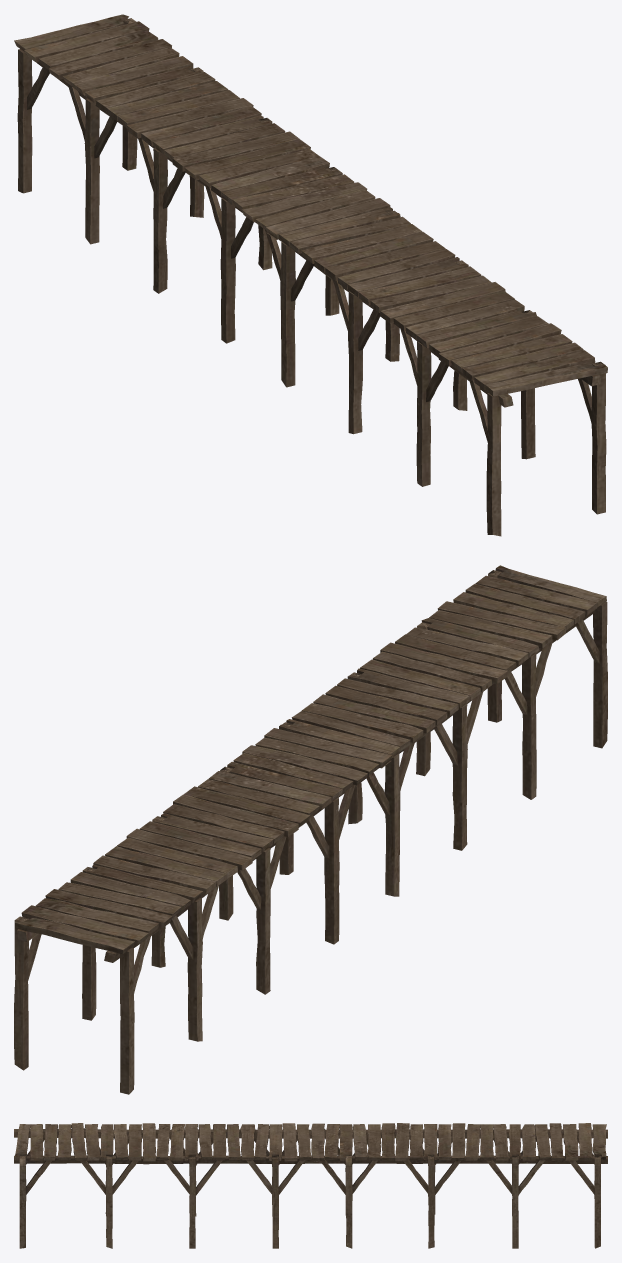
The model's file is puente.fbx.
3 views of the same model, one above another, from view 1: azimuth 30°, elevation 25°; view 2: azimuth 150°, elevation 25°; view 3: azimuth 270°, elevation 25° (orthographic). The views are drawn at different scales.
Parts seen in each view (by area): view 1: Lowpoly, Lowpolystolpe; view 2: Lowpoly, Lowpolystolpe; view 3: Lowpoly, Lowpolystolpe.
Boxes of the visible parts, bbox=[...] form: Lowpoly: bbox=[14, 14, 607, 442]; Lowpolystolpe: bbox=[17, 49, 606, 536]; Lowpoly: bbox=[14, 565, 606, 993]; Lowpolystolpe: bbox=[14, 602, 607, 1094]; Lowpoly: bbox=[14, 1123, 607, 1195]; Lowpolystolpe: bbox=[19, 1163, 600, 1248].
Size of the model in its own units: 1295 by 1583 by 9339.
1 material, 1 textured.
